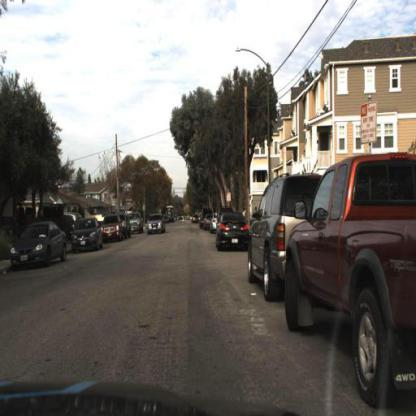car: (285, 152, 415, 412), (245, 169, 316, 310), (9, 217, 67, 268), (214, 208, 250, 252), (68, 217, 103, 253), (101, 213, 122, 241), (145, 210, 164, 236), (60, 209, 84, 228), (127, 210, 143, 234), (119, 209, 131, 238), (121, 214, 132, 239), (208, 210, 218, 233)
truck: (164, 204, 173, 222)
